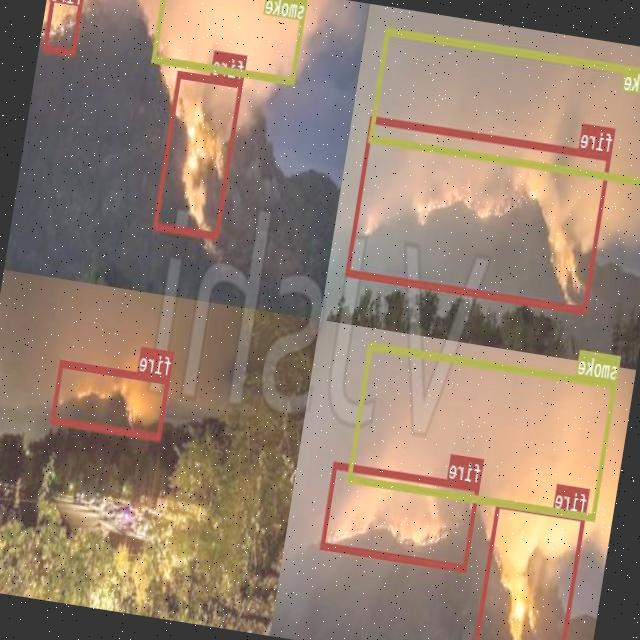fire: (347, 115, 612, 313), (320, 462, 482, 570), (474, 499, 587, 640), (154, 70, 243, 238), (51, 358, 171, 441), (44, 0, 87, 55)
smoke: (348, 342, 618, 520), (368, 26, 640, 185), (153, 0, 308, 83)
